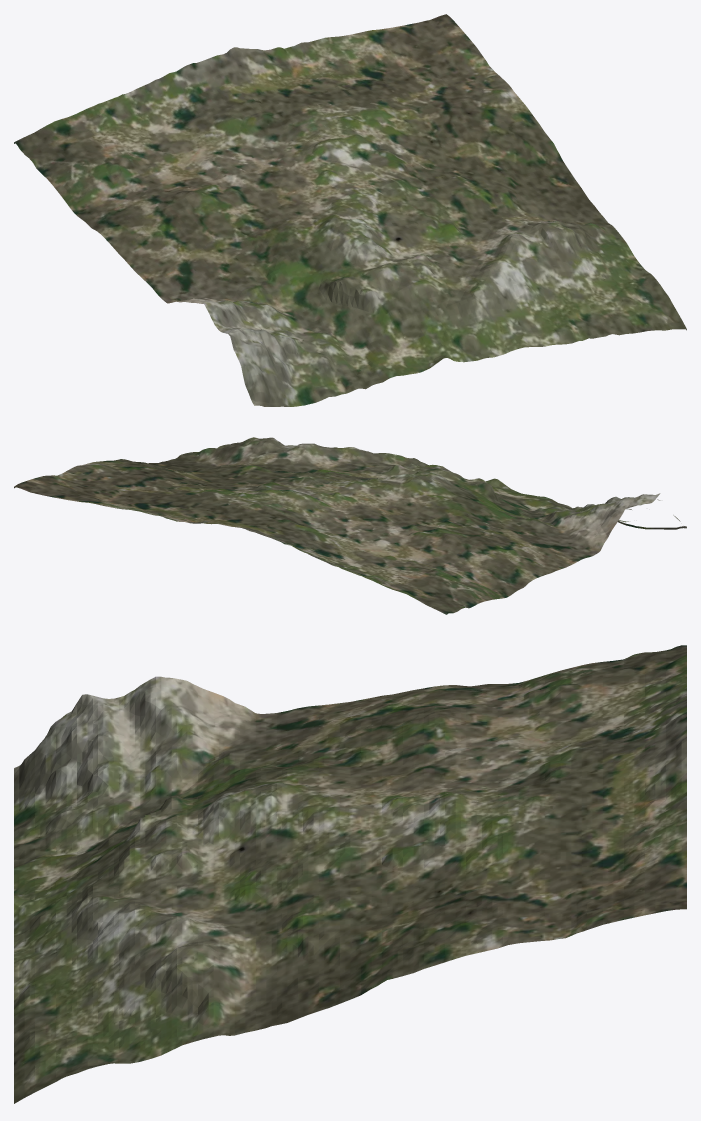
3 renders of one model, top to bottom at view 1: azimuth 30°, elevation 25°; view 2: azimuth 150°, elevation 25°; view 3: azimuth 270°, elevation 25°, orthographic. The views are drawn at different scales.
Size of the model in its own units: 250 by 88.13 by 241.
1 material, 1 textured.
